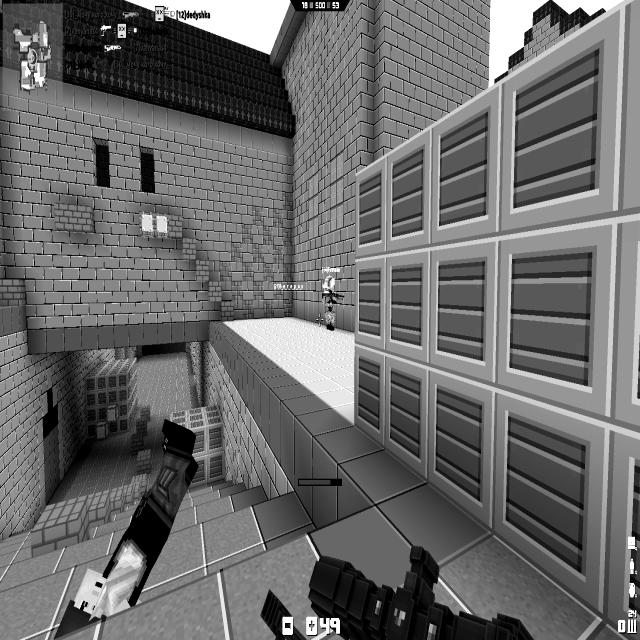Head: (62, 562, 118, 632), (324, 276, 336, 294)
Player: (44, 416, 198, 640), (321, 274, 344, 330)
